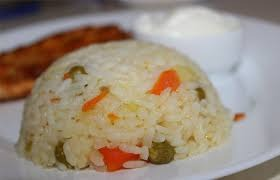pirinc_pilavi: (18, 41, 232, 170)
